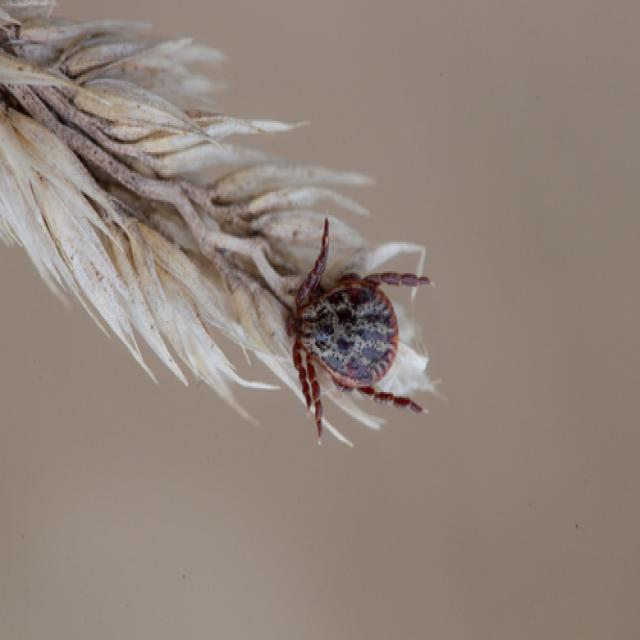Dermacentor Reticulatus-M: (287, 217, 430, 442)
